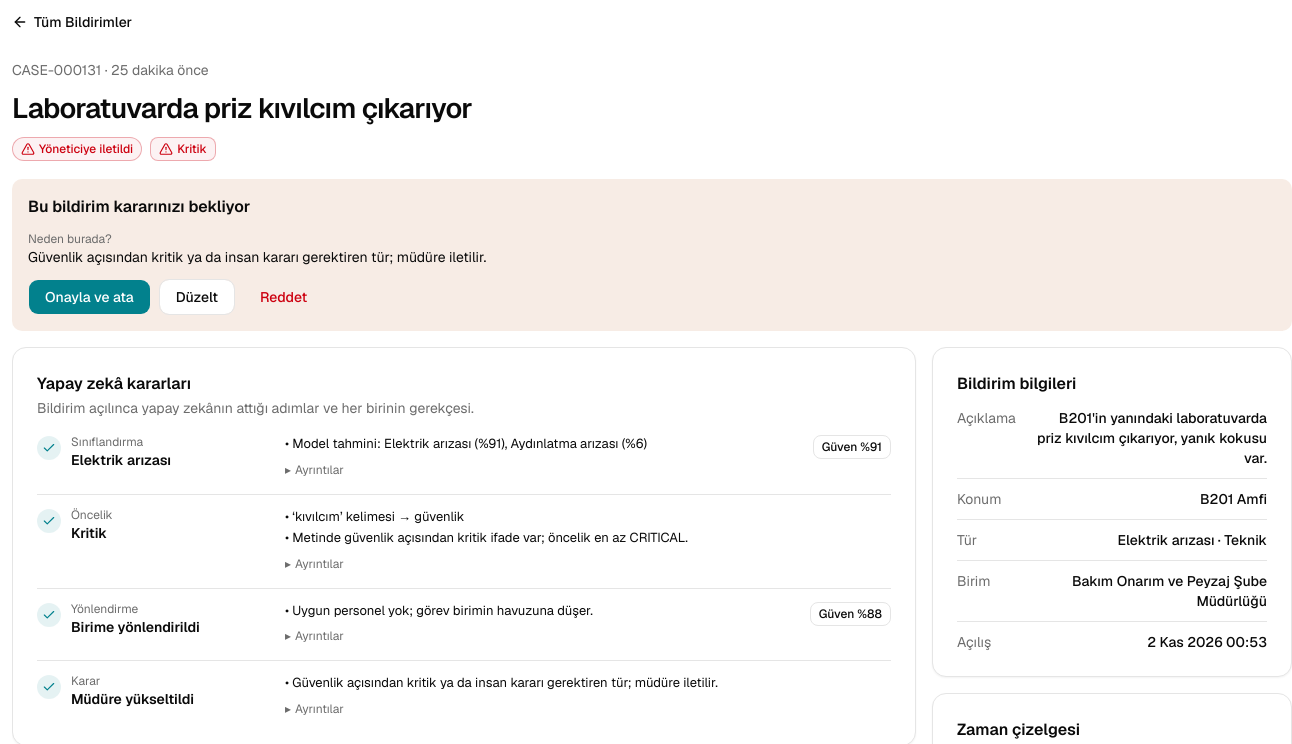
Scenario: ManagerCaseDetail › lets the manager decide right here when the case is in the review queue
Check: the element "Bu bildirim kararınızı bekliyor" shows "Neden burada?", box [28, 231, 112, 247]
Check: the element "Bu bildirim kararınızı bekliyor" shows "Güvenlik açısından kritik ya da insan kararı gerektiren tür; müdüre iletilir.", box [28, 248, 486, 266]
Click the button "Onayla ve ata" at (89, 297), box [28, 279, 151, 315]
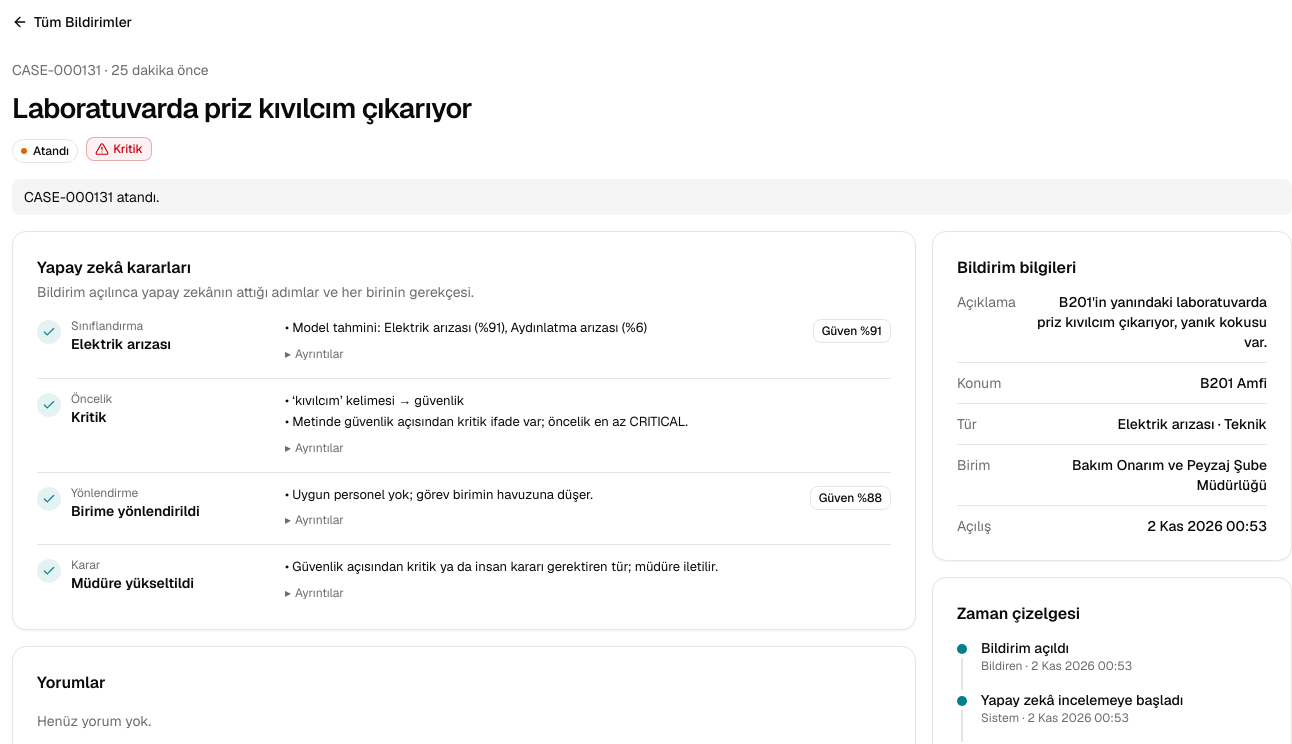
Check: the message reads "CASE-000131 atandı.", box [24, 188, 159, 206]
Check: the list named "Durum" shows "Atandı", box [33, 143, 69, 159]
Check: the heading "Bu bildirim kararınızı bekliyor" is gone
